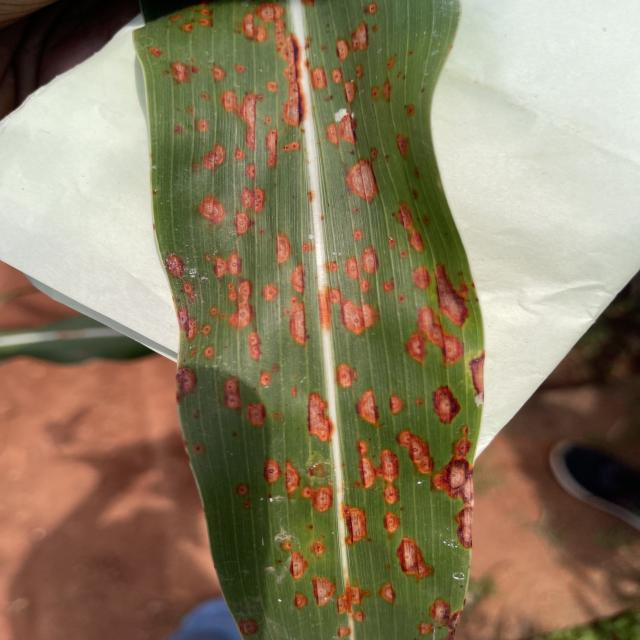millet_rust: (136, 0, 490, 640)
